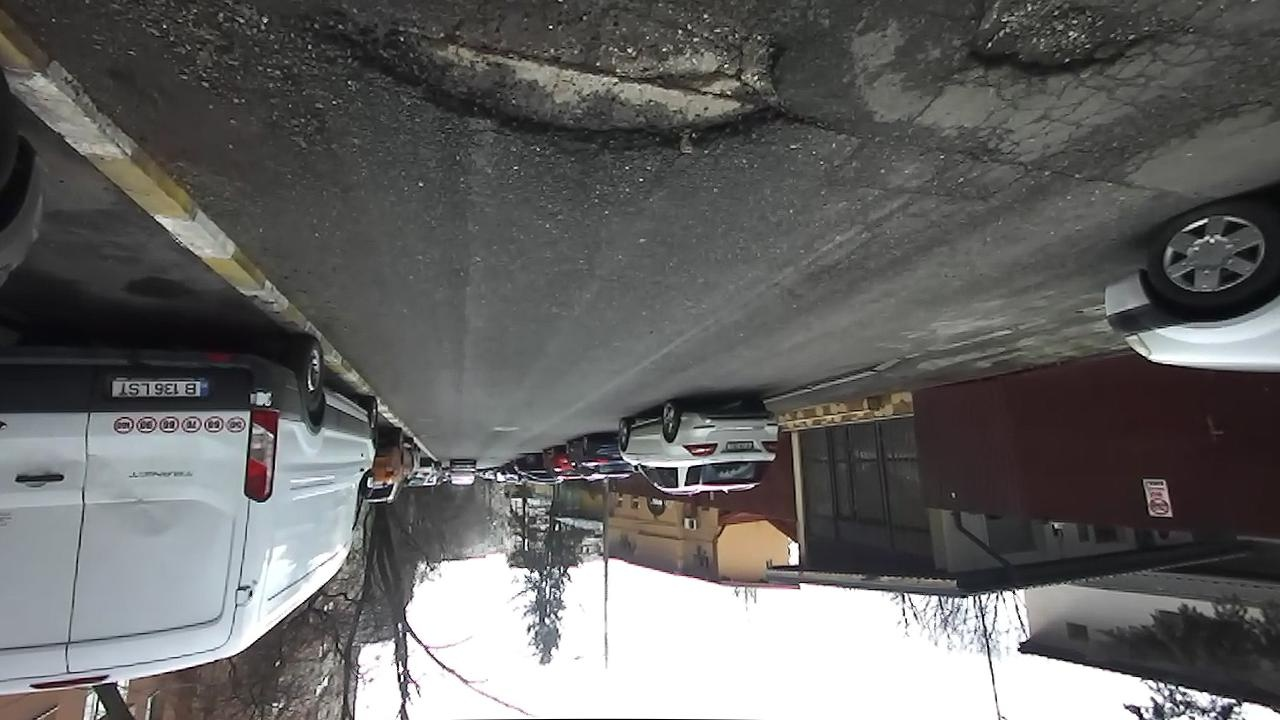pothole: (262, 0, 823, 161), (967, 0, 1200, 84)
